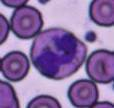E: (31, 27, 86, 79)
